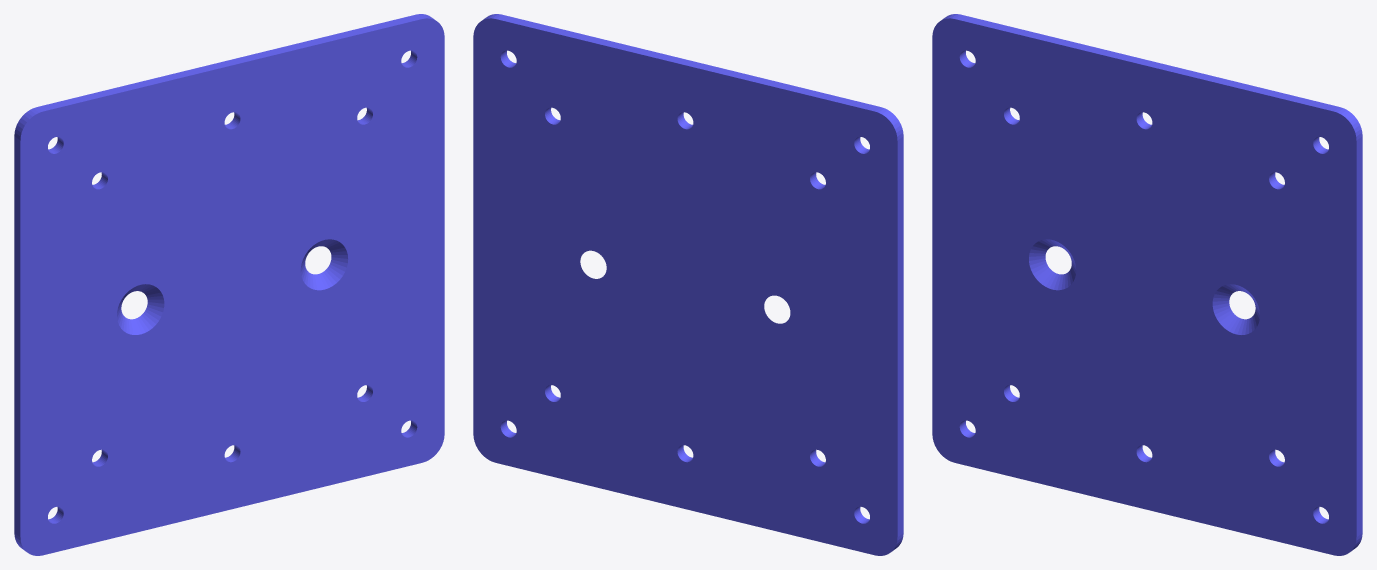
The model's file is PortaMonitor.obj.
3 views of the same model, side by side, from view 1: azimuth 30°, elevation 25°; view 2: azimuth 150°, elevation 25°; view 3: azimuth 330°, elevation 25° (orthographic).
Visible parts, largest first — view 1: mesh_0; view 2: mesh_0; view 3: mesh_0.
Boxes of the visible parts, x1=… form: mesh_0: x1=14, y1=14, x2=444, y2=555; mesh_0: x1=473, y1=14, x2=903, y2=555; mesh_0: x1=932, y1=14, x2=1362, y2=555.
Size of the model in its own units: 120 by 120 by 3.
